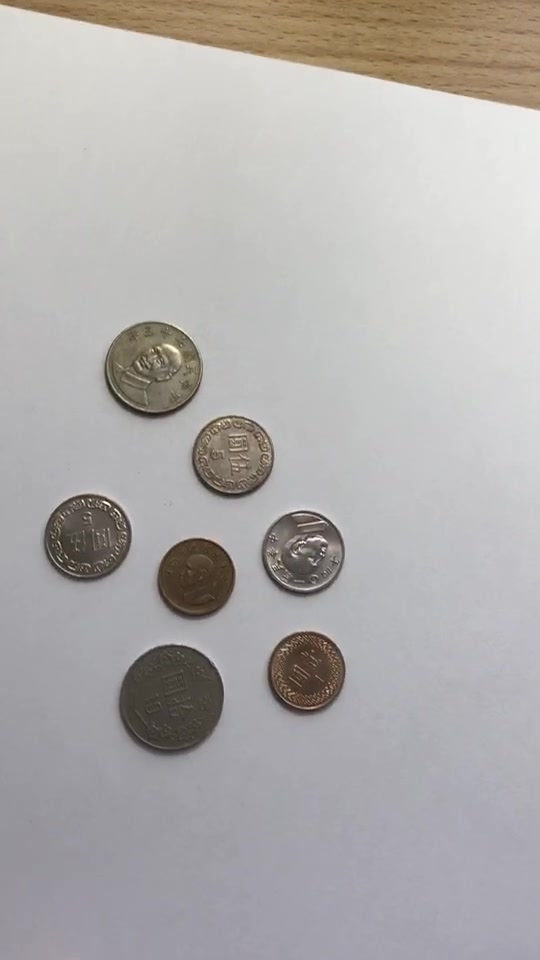1 dallar: (149, 529, 235, 627), (263, 620, 349, 718)
10 dallar: (107, 641, 231, 758), (91, 314, 210, 419)
5 dallar: (38, 485, 140, 589), (181, 405, 283, 509), (251, 500, 353, 604)
